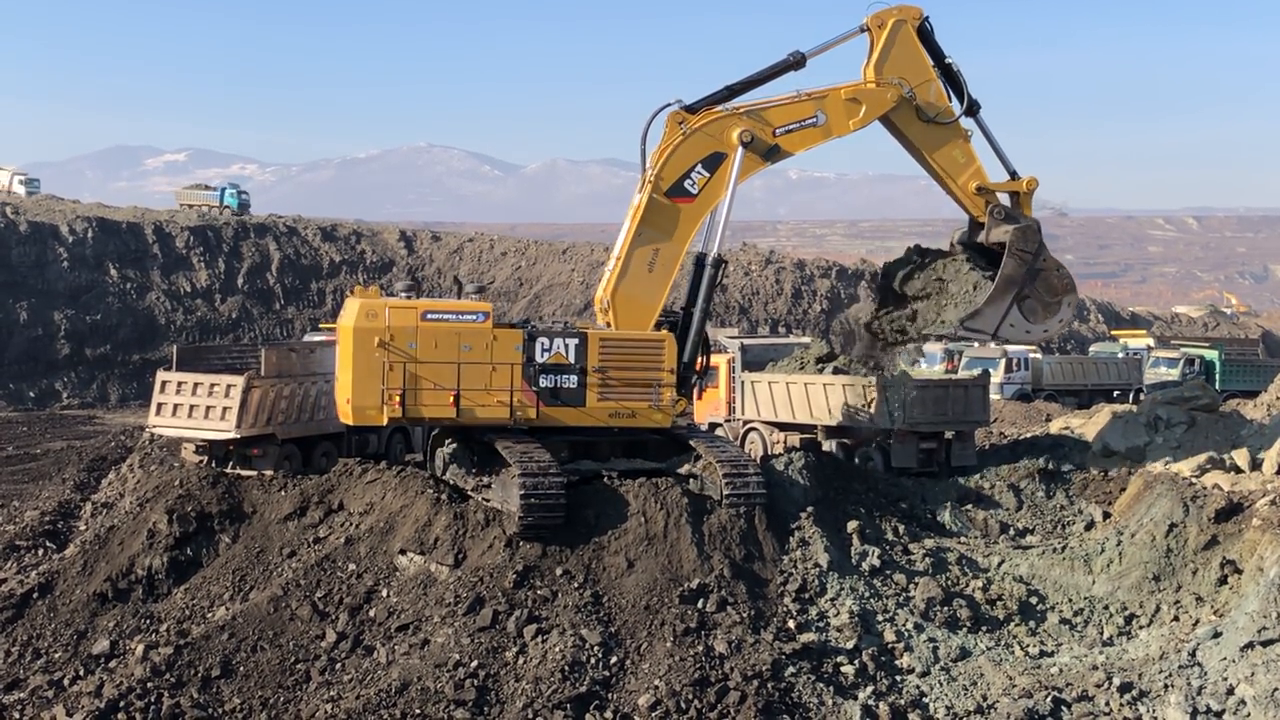full: (882, 213, 1081, 351)
